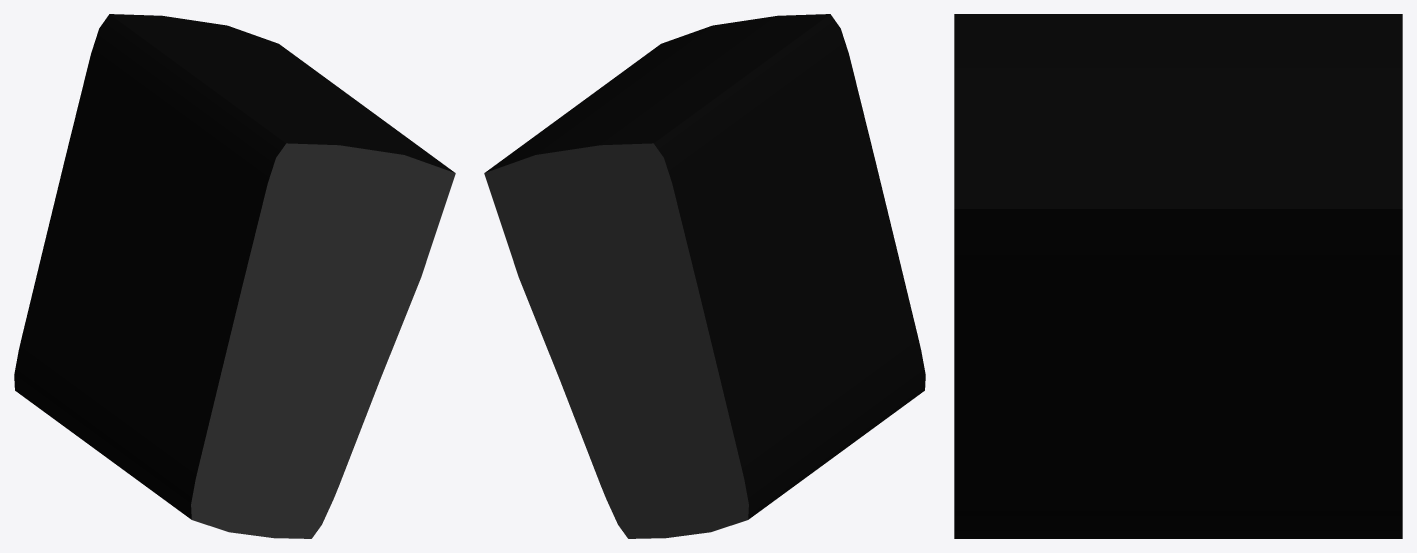
The model's file is symbol,_Zyzol_Black.glb.
3 views of the same model, side by side, from view 1: azimuth 30°, elevation 25°; view 2: azimuth 150°, elevation 25°; view 3: azimuth 270°, elevation 25° (orthographic). The views are drawn at different scales.
Parts seen in each view (by area): view 1: ,_Zyzol_Black; view 2: ,_Zyzol_Black; view 3: ,_Zyzol_Black.
Part boxes in pixels (left/top/right/bottom): ,_Zyzol_Black: left=14, top=14, right=455, bottom=538; ,_Zyzol_Black: left=484, top=14, right=925, bottom=538; ,_Zyzol_Black: left=954, top=14, right=1402, bottom=538.
Size of what is drawn, in the model's own units: 0.0389 by 0.0564 by 0.045.
Materials: 2 (2 with a texture image).
